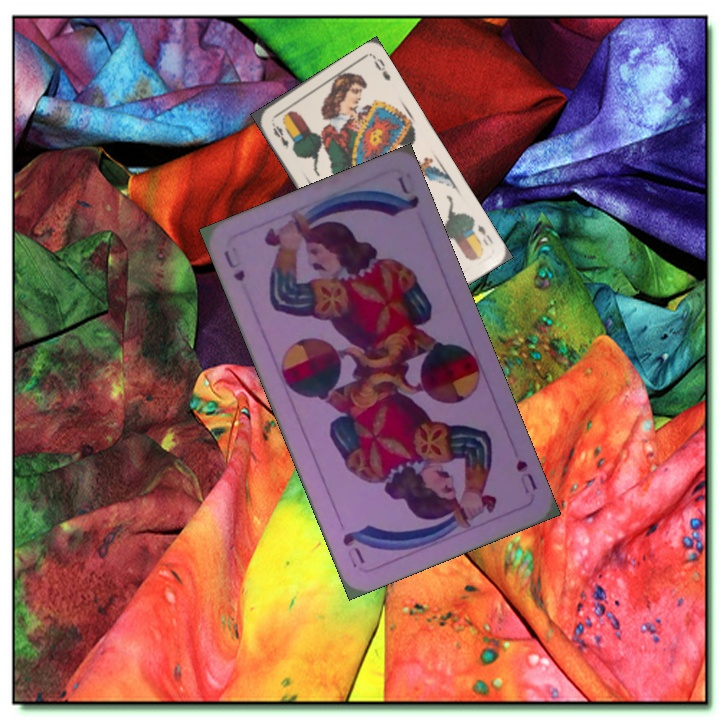EO: (267, 118, 291, 152), (473, 220, 496, 248)
SU: (512, 456, 540, 497), (219, 246, 248, 284)
